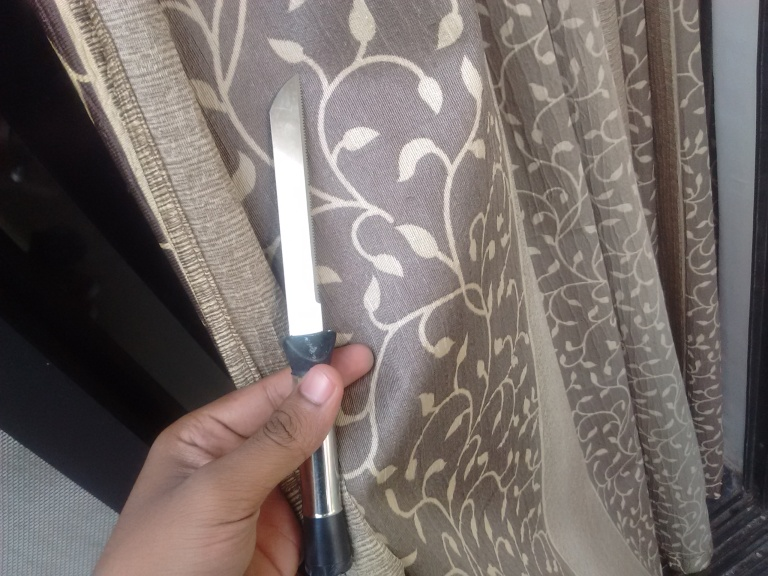knife: (268, 72, 360, 573)
